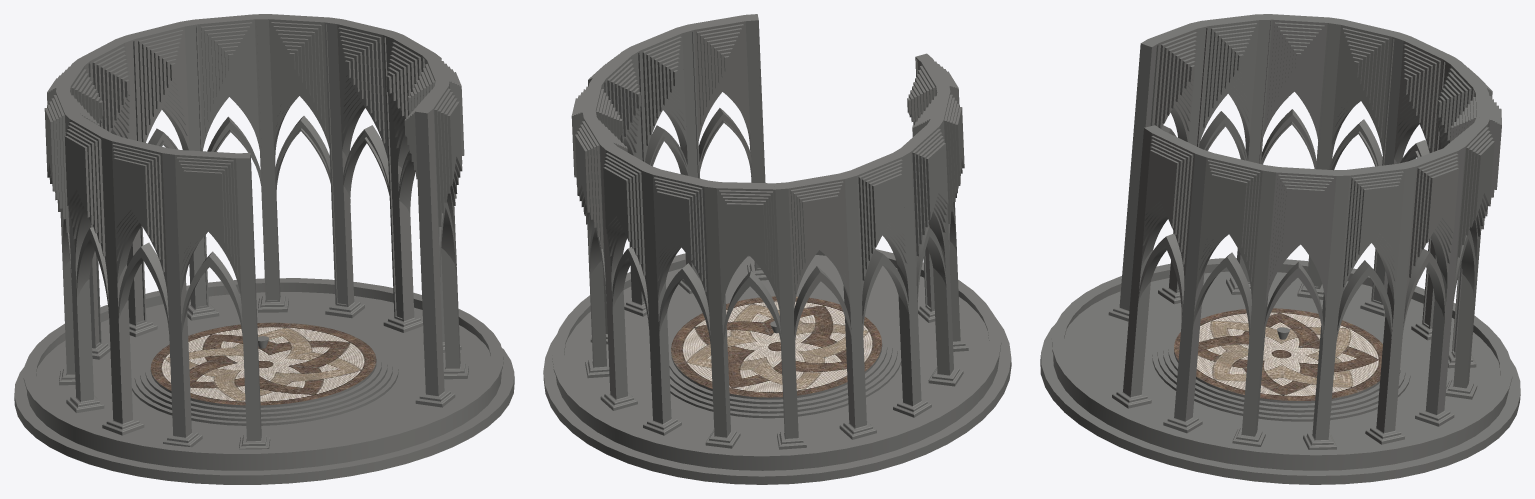
The model's file is cloud-palace.glb.
3 renders of one model, left to right at view 1: azimuth 30°, elevation 25°; view 2: azimuth 150°, elevation 25°; view 3: azimuth 270°, elevation 25°, orthographic. The views are drawn at different scales.
Visible parts, largest first — view 1: GeometryNode_27, GeometryNode_38, GeometryNode_3, GeometryNode_46; view 2: GeometryNode_27, GeometryNode_38, GeometryNode_3, GeometryNode_46; view 3: GeometryNode_27, GeometryNode_38, GeometryNode_3, GeometryNode_46.
Part boxes in pixels (<box>): GeometryNode_27: <box>14,14,514,484</box>; GeometryNode_38: <box>44,19,464,317</box>; GeometryNode_3: <box>150,322,376,405</box>; GeometryNode_46: <box>62,116,456,348</box>; GeometryNode_27: <box>543,14,1011,484</box>; GeometryNode_38: <box>571,15,959,329</box>; GeometryNode_3: <box>671,296,882,397</box>; GeometryNode_46: <box>588,108,956,350</box>; GeometryNode_27: <box>1040,14,1520,484</box>; GeometryNode_38: <box>1140,14,1501,314</box>; GeometryNode_3: <box>1174,308,1382,400</box>; GeometryNode_46: <box>1138,111,1445,345</box>.
Bounding box in the file's own units: 27.8 × 19.97 × 27.74.
2 materials, 1 textured.
